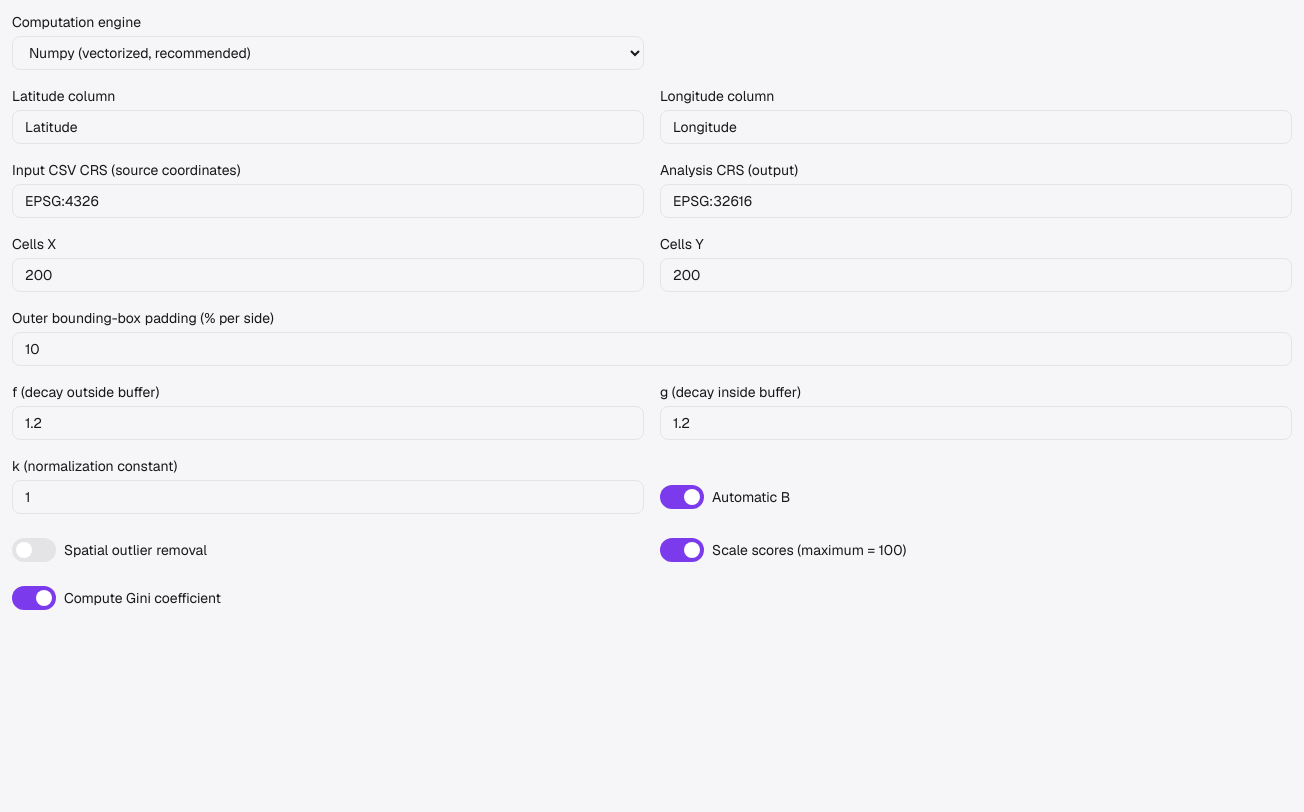
Scenario: ParamsForm geographic analysis-CRS warning › warns for a geographic analysis CRS and hides the warning for a projected one
The image size is (1304, 812).
Replace the text in the field labelled "Analysis CRS (output)" with "EPSG:4326" at (976, 201), box x1=660 y1=184 x2=1292 y2=218
Wait 250 ms
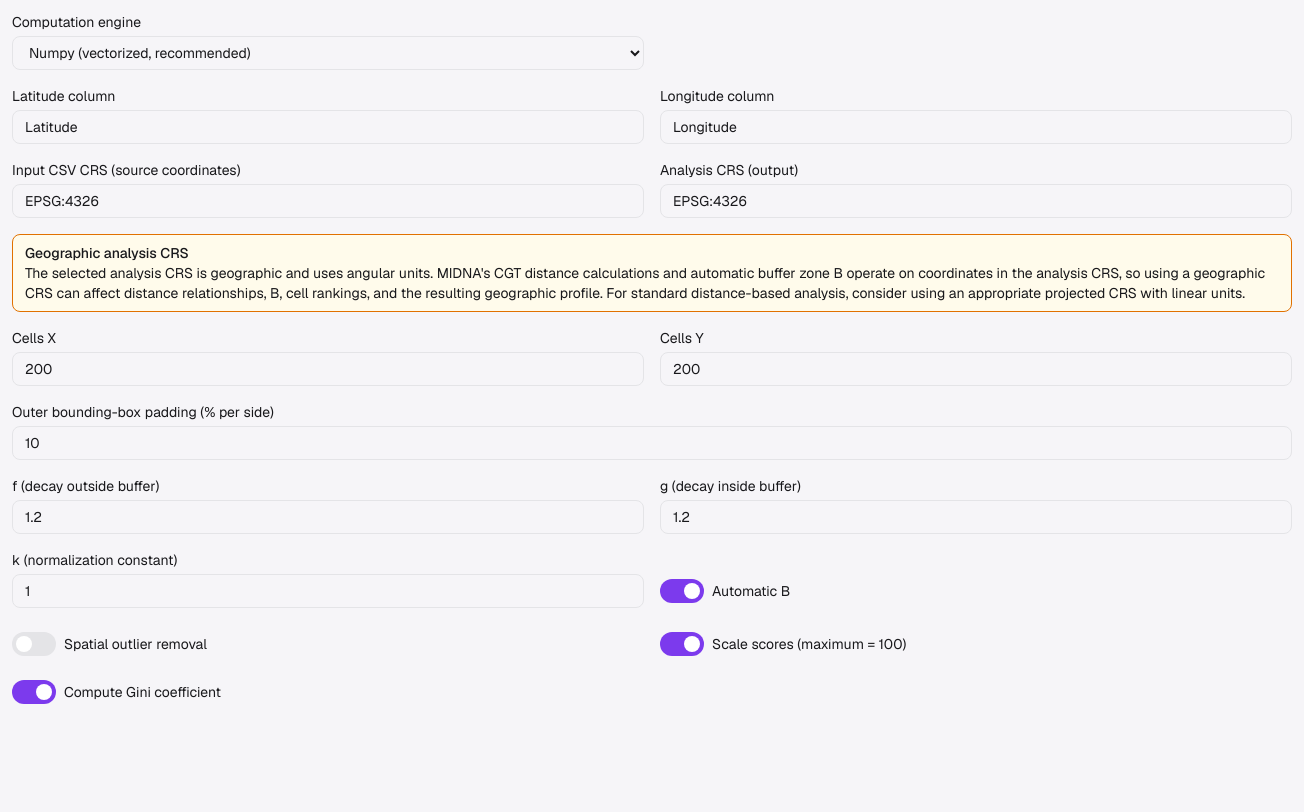
Now the message shows "Geographic analysis CRS", box x1=25 y1=244 x2=189 y2=262
Replace the text in the field labelled "Analysis CRS (output)" with "EPSG:32616" at (976, 201), box x1=660 y1=184 x2=1292 y2=218
Wait 250 ms
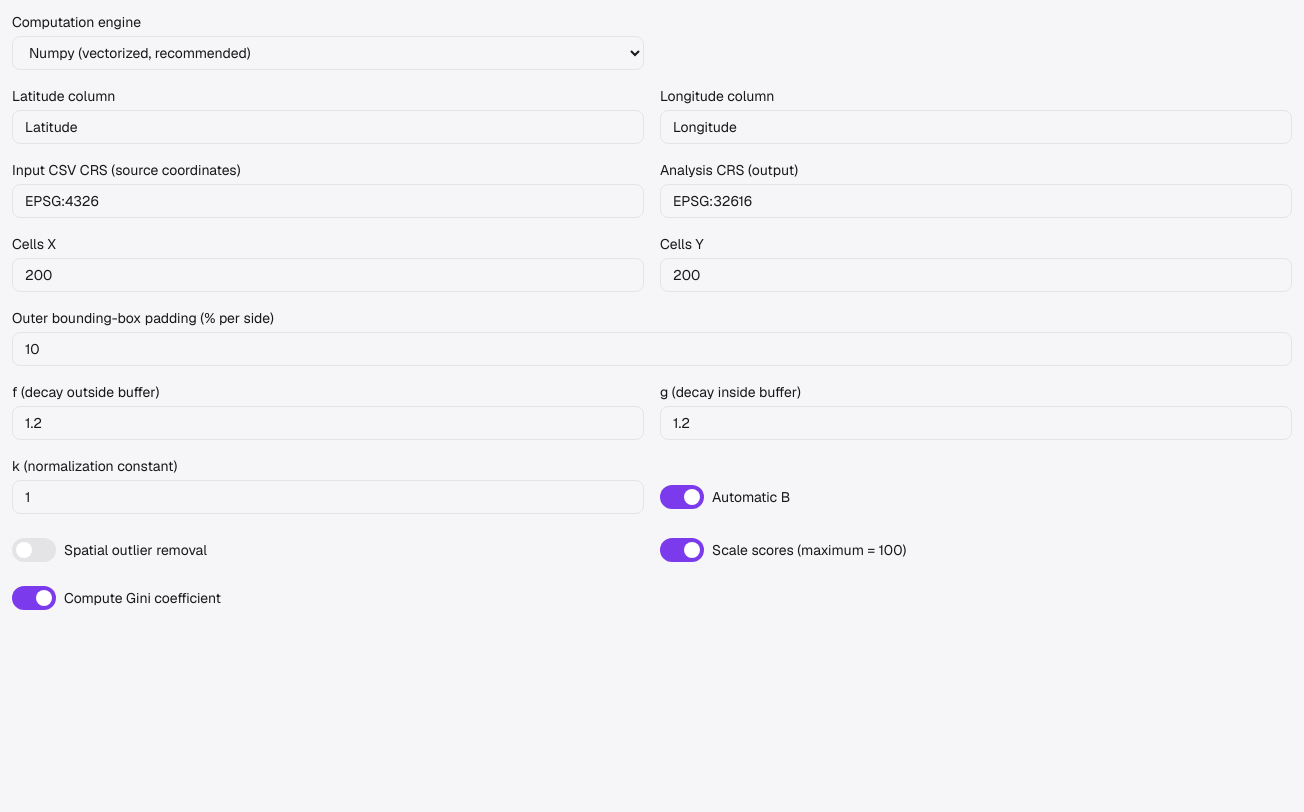
Now the message is gone
